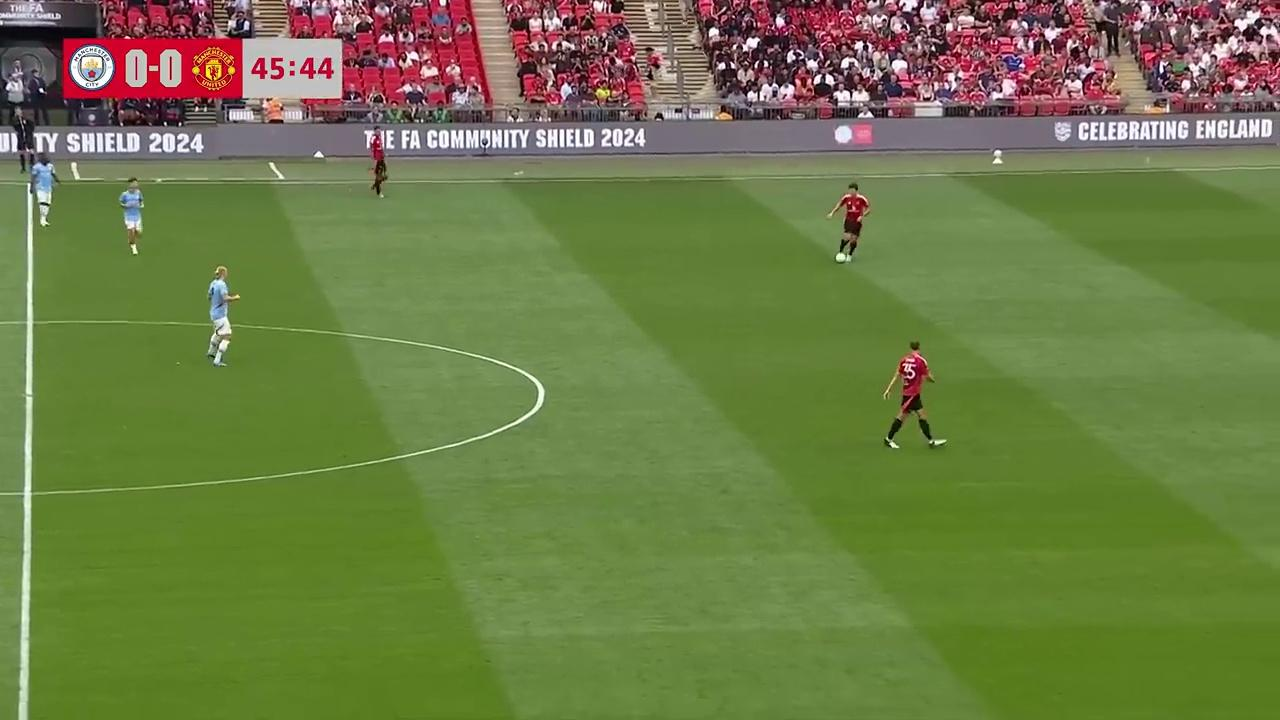ball: (833, 249, 845, 264)
player: (881, 340, 938, 449), (827, 183, 870, 263), (206, 267, 234, 367), (28, 154, 58, 226), (118, 177, 145, 254), (368, 135, 388, 197)
